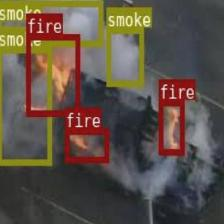fire: (26, 33, 80, 115), (64, 127, 108, 162), (158, 100, 183, 154)
smoke: (0, 46, 51, 165), (0, 0, 102, 46), (106, 27, 144, 85)
